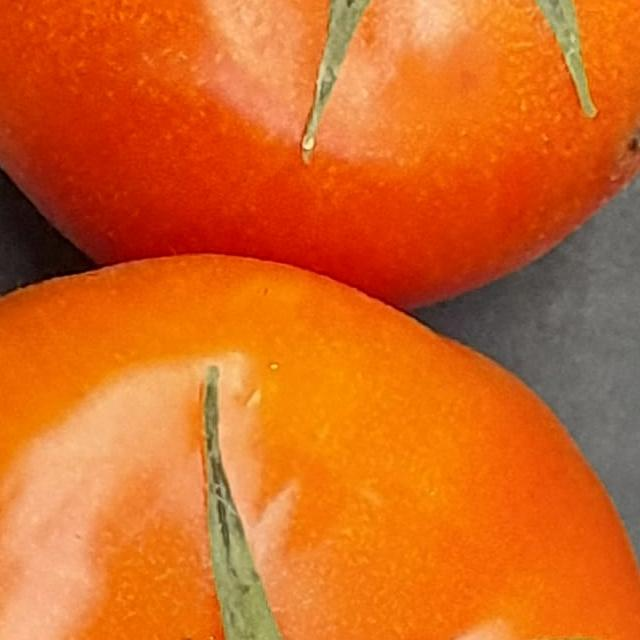tomato: (0, 233, 640, 640), (0, 0, 640, 313)
